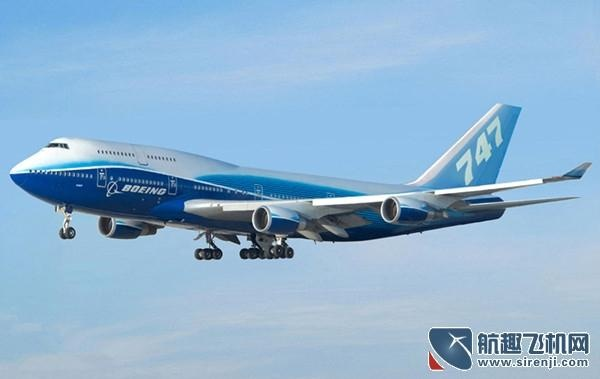airplane: (10, 98, 590, 259)
